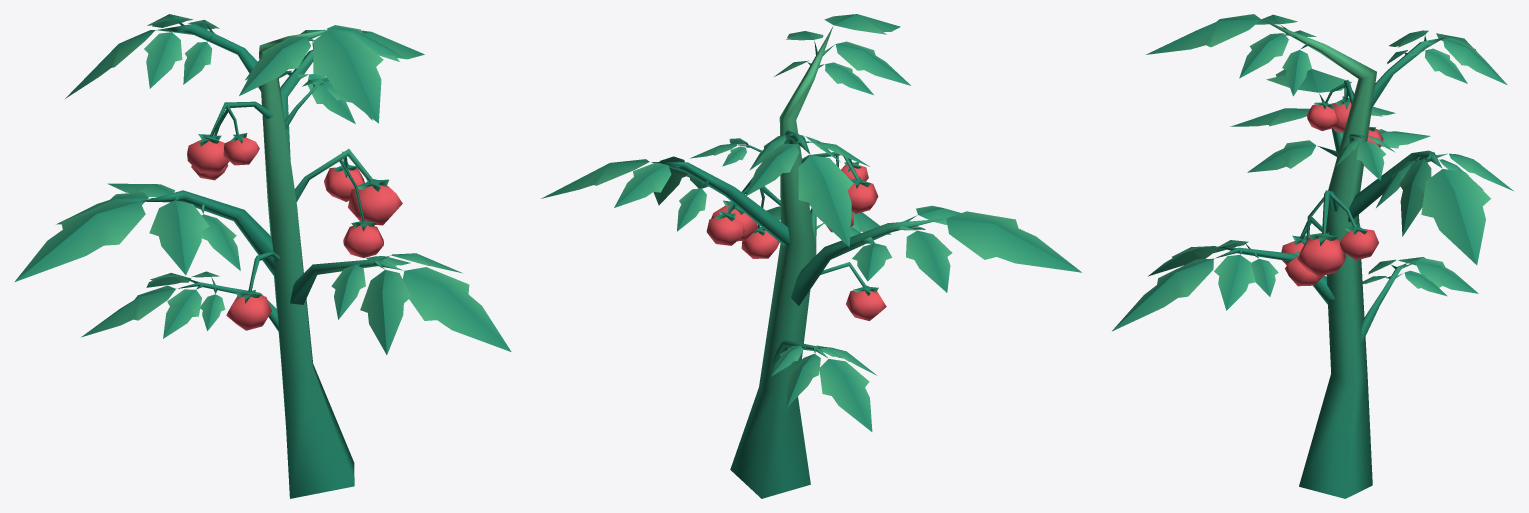
Rendered from TomatoSprout03.glb.
3 views of the same model, side by side, from view 1: azimuth 30°, elevation 25°; view 2: azimuth 150°, elevation 25°; view 3: azimuth 270°, elevation 25° (orthographic). The views are drawn at different scales.
Visible parts, largest first — view 1: TomatoSprout03; view 2: TomatoSprout03; view 3: TomatoSprout03.
Boxes of the visible parts, left/top/right/bottom form: TomatoSprout03: left=14, top=14, right=511, bottom=498; TomatoSprout03: left=541, top=14, right=1081, bottom=498; TomatoSprout03: left=1112, top=14, right=1513, bottom=498.
Bounding box in the file's own units: 2.41 × 2.23 × 1.78.
1 material, 1 textured.
